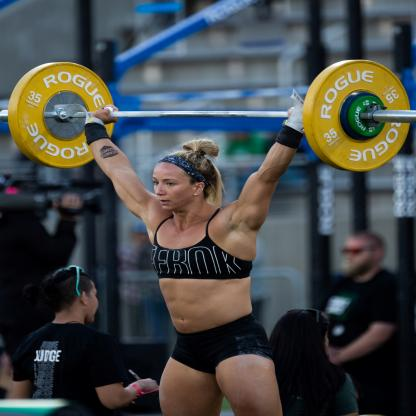barbell: (312, 60, 412, 173), (16, 62, 118, 171)
